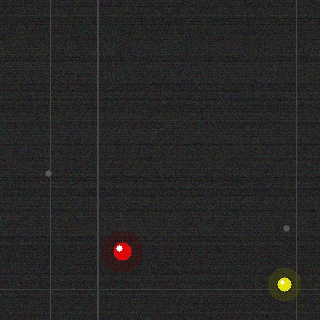red_fault: (111, 240, 133, 262)
yellow_warning: (275, 275, 293, 293)
